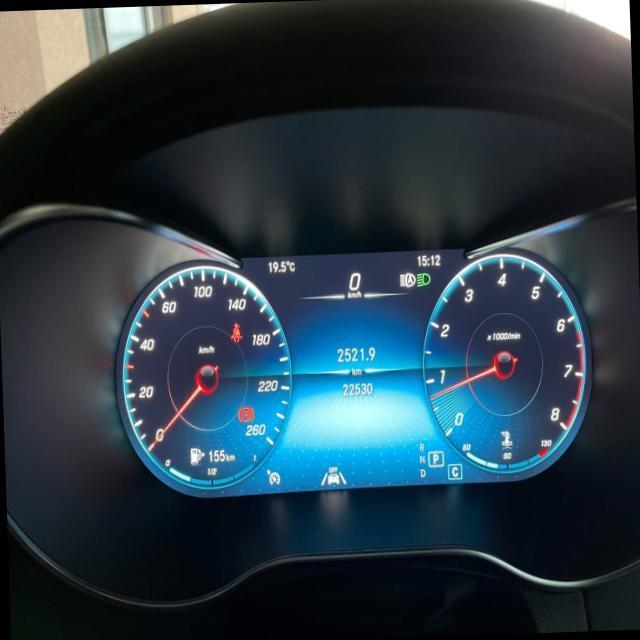LaneCenteringOff: (320, 470, 346, 485)
Low beam: (414, 270, 430, 288)
